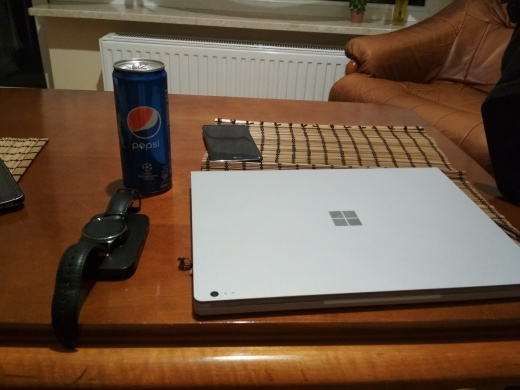pepsi: (102, 51, 181, 198)
